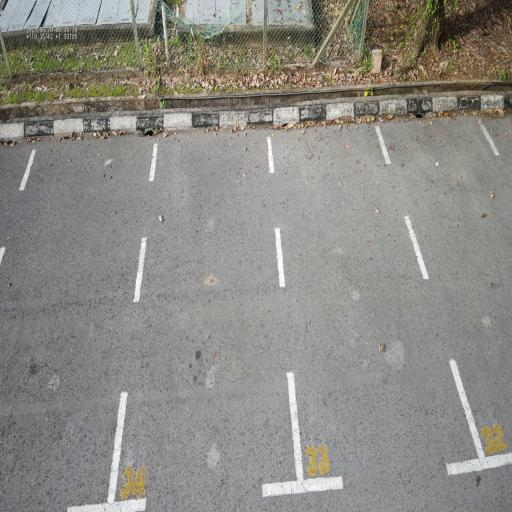Empty: (99, 120, 306, 512)
